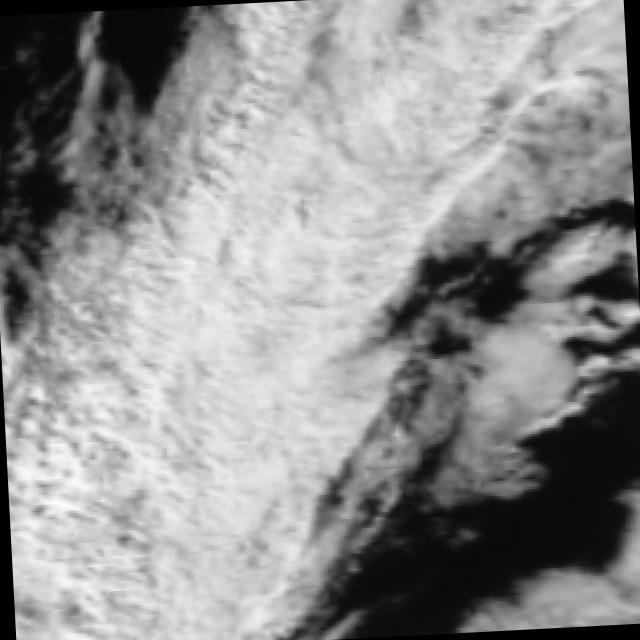CB: (126, 270, 312, 505)
